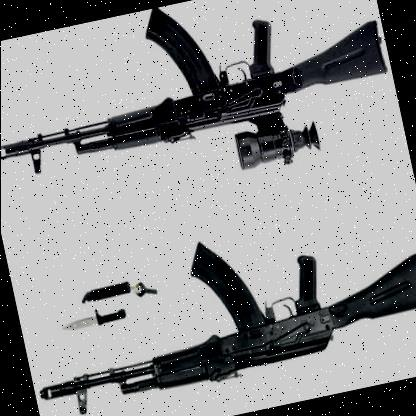rifle: (0, 0, 406, 233), (26, 189, 416, 416)
